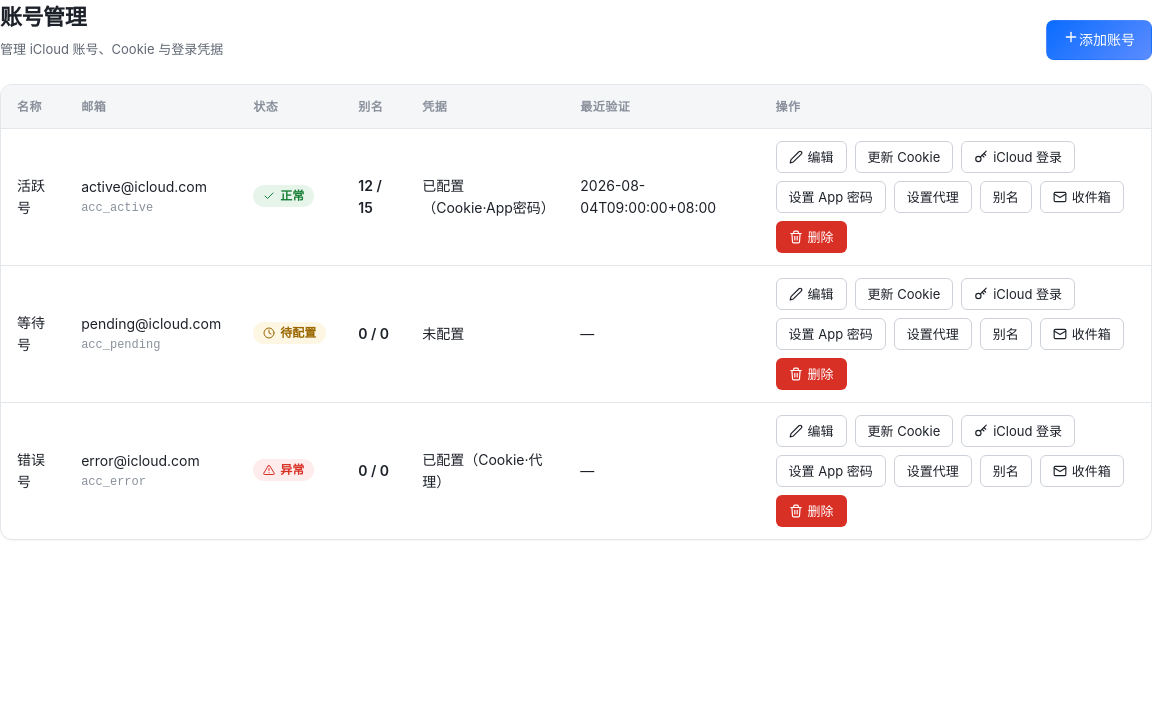
AccountsPage › 添加账号:校验必填、请求期间禁用、成功刷新
expect the text "活跃号" is shown: met, box [1, 129, 65, 266]
Click the button "添加账号". click: (1099, 40)
box: [1046, 20, 1151, 60]
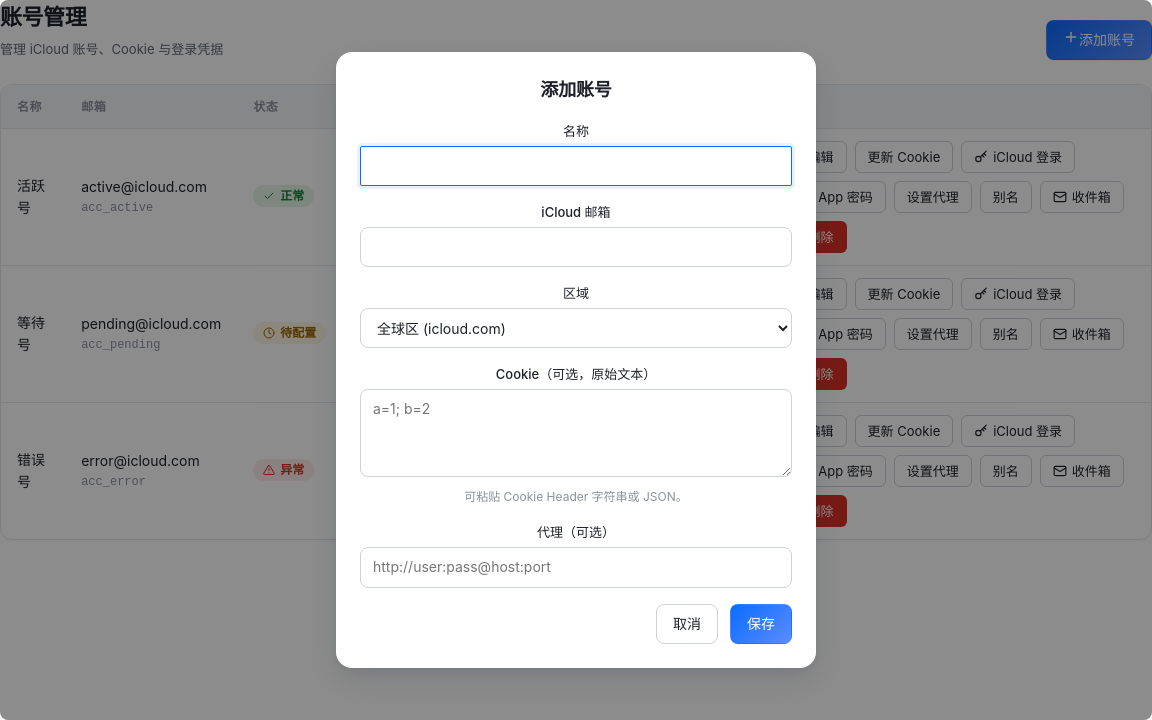
Type "新账号" into the field labelled "名称". click: (576, 166)
box: [360, 146, 792, 186]
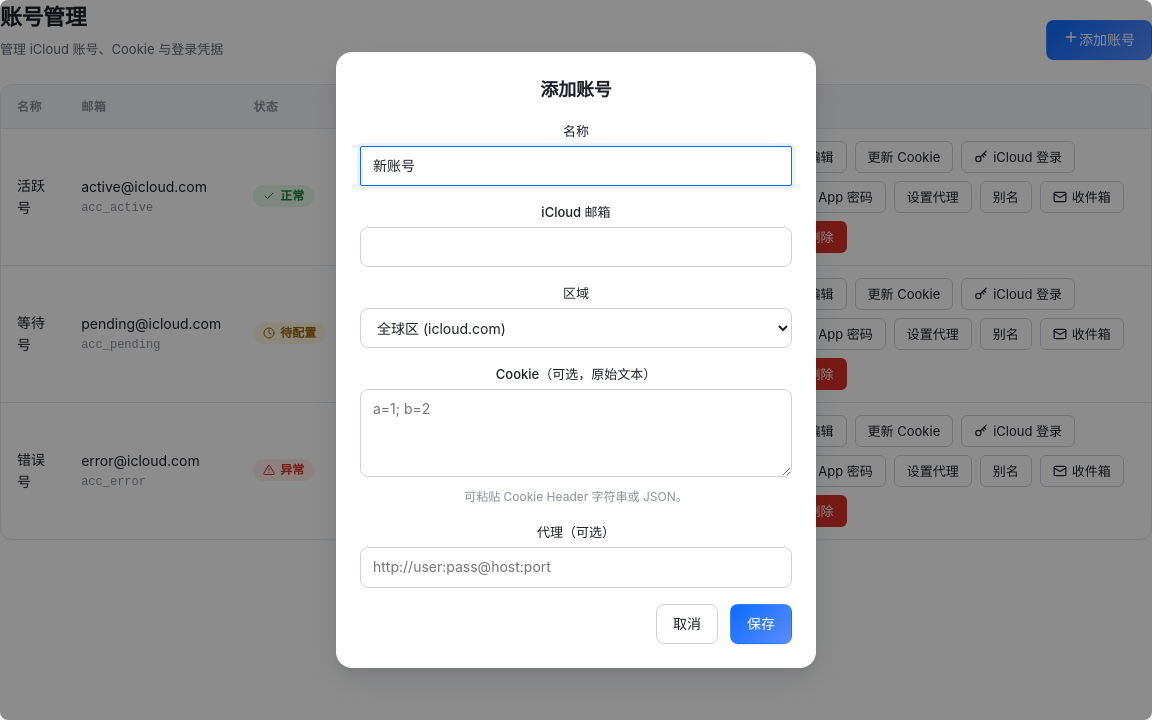
Type "new@icloud.com" into the field labelled "iCloud 邮箱". click: (576, 247)
box: [360, 227, 792, 267]
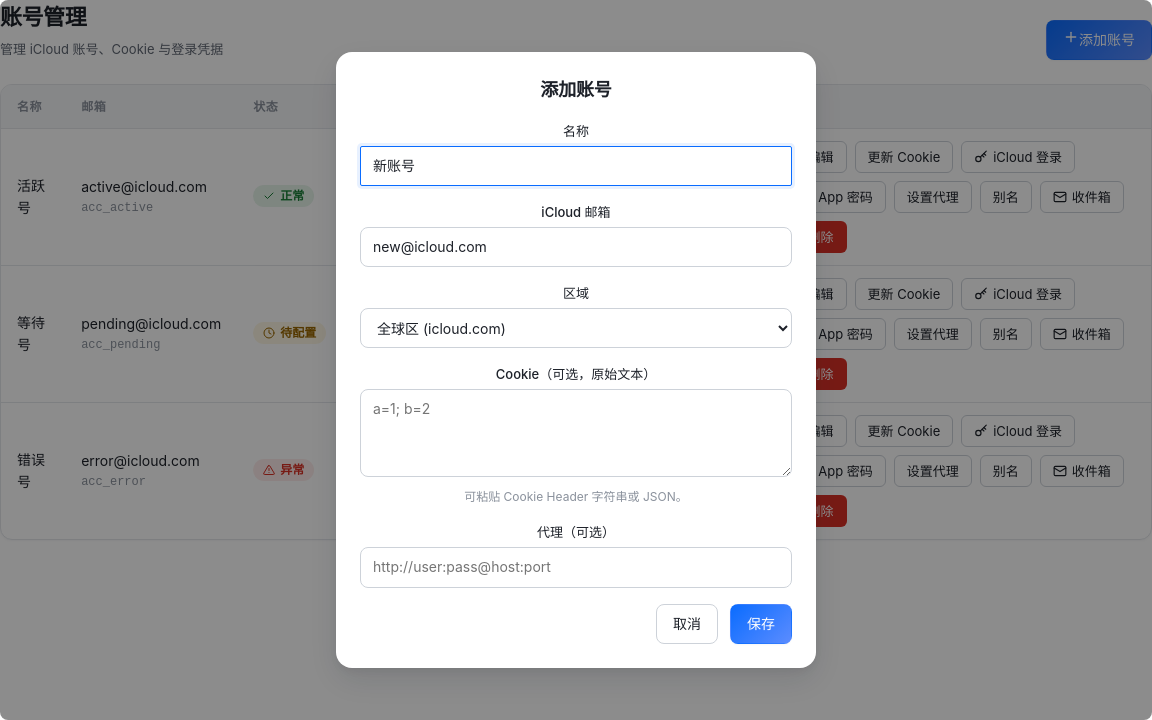
Click the button "保存". click: (761, 624)
box: [730, 604, 792, 644]
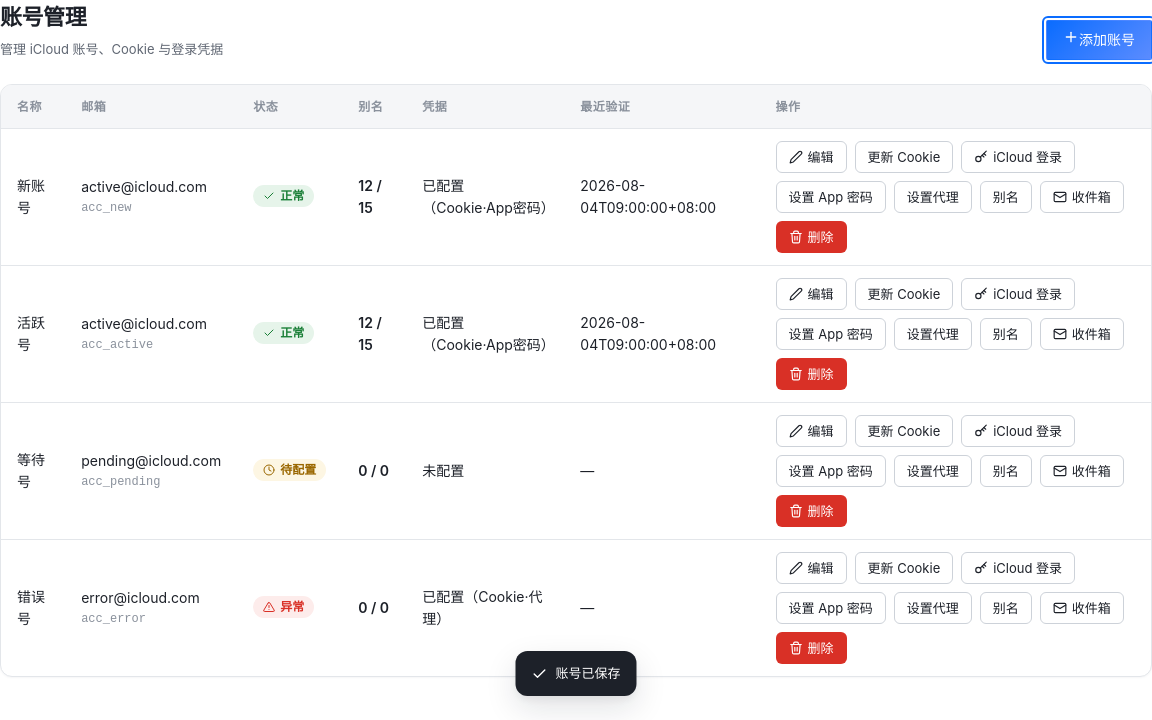
expect the text "新账号" is shown: met, box [1, 129, 65, 266]
